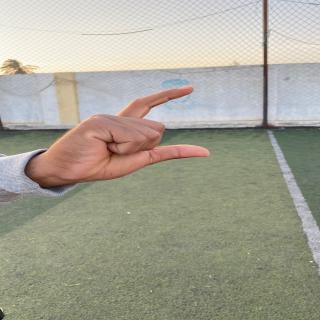DELL: (37, 78, 235, 179)
